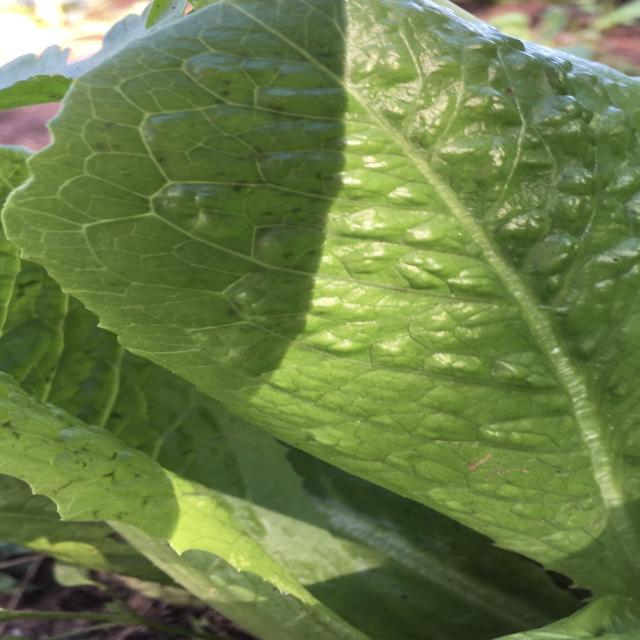Healthy Lettuce: (4, 3, 636, 634), (8, 4, 350, 383)
